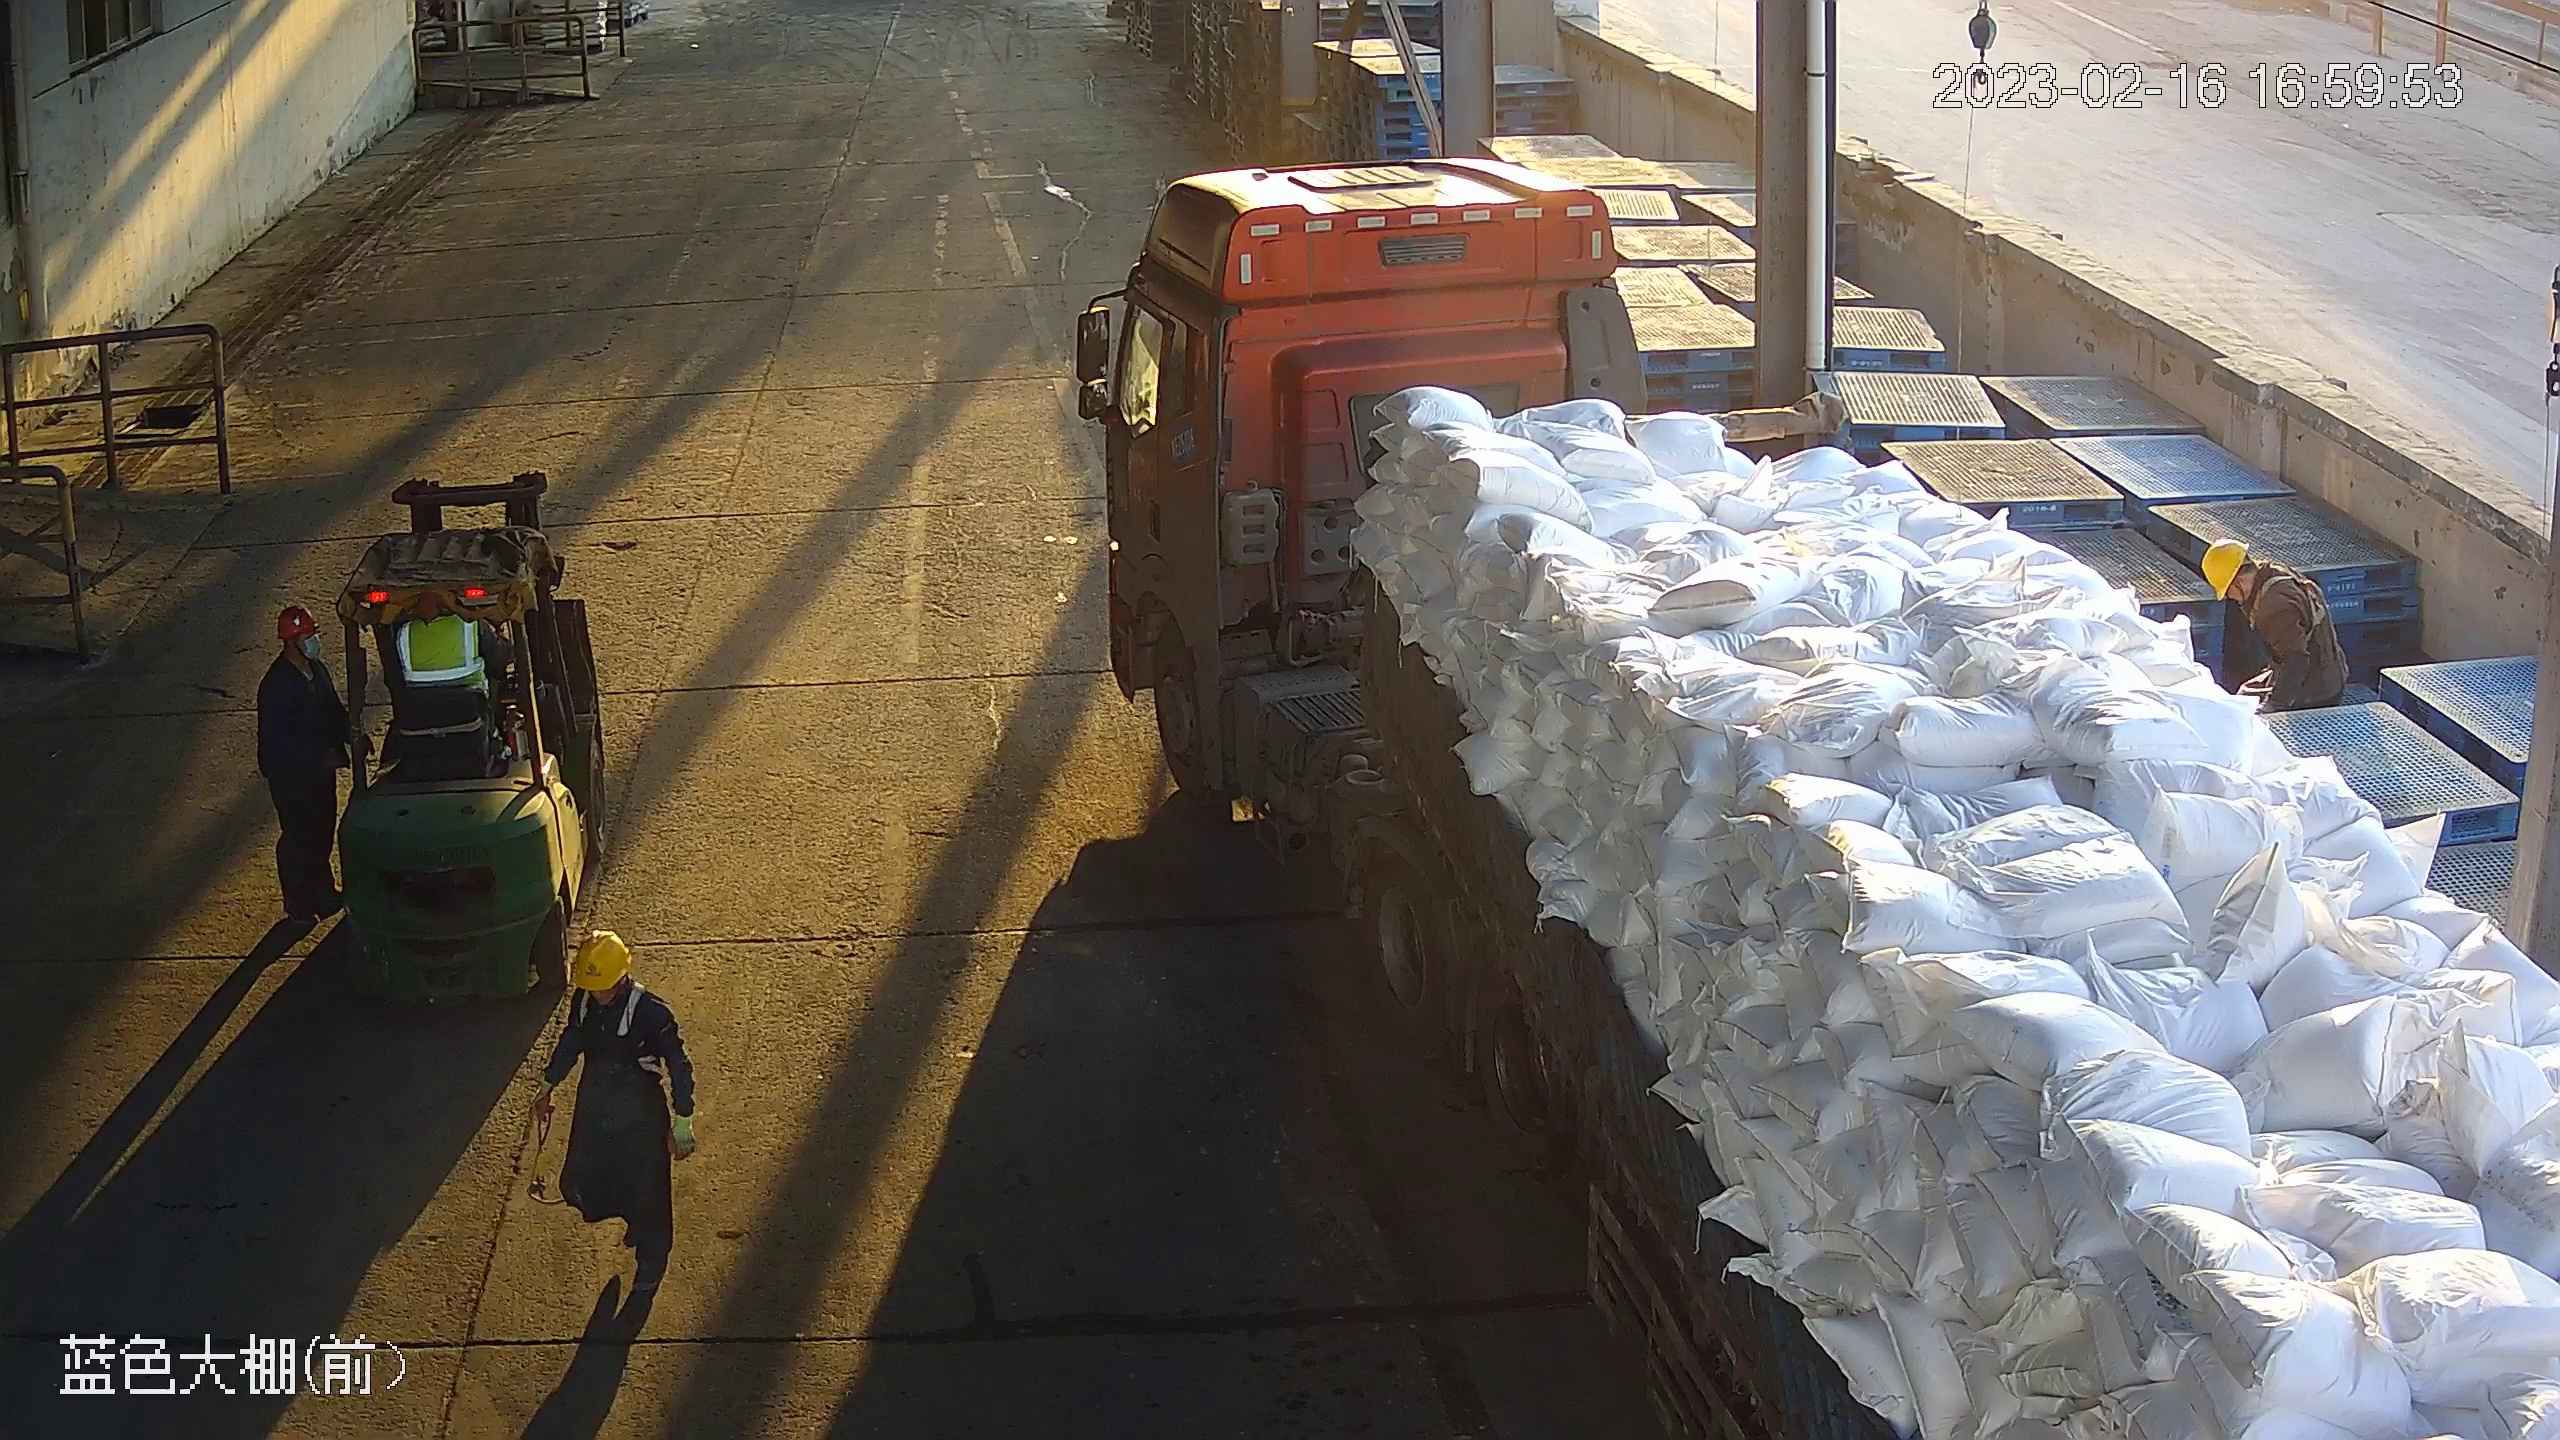belt: (2255, 563, 2340, 637), (576, 1001, 637, 1044)
head: (557, 930, 661, 1031), (255, 605, 342, 698), (2214, 537, 2311, 613)
helmet: (570, 934, 631, 990), (2202, 532, 2244, 590), (273, 604, 316, 634)
people: (530, 931, 696, 1301), (253, 608, 369, 927), (2200, 532, 2360, 713)
truck: (1062, 160, 2560, 1440)
